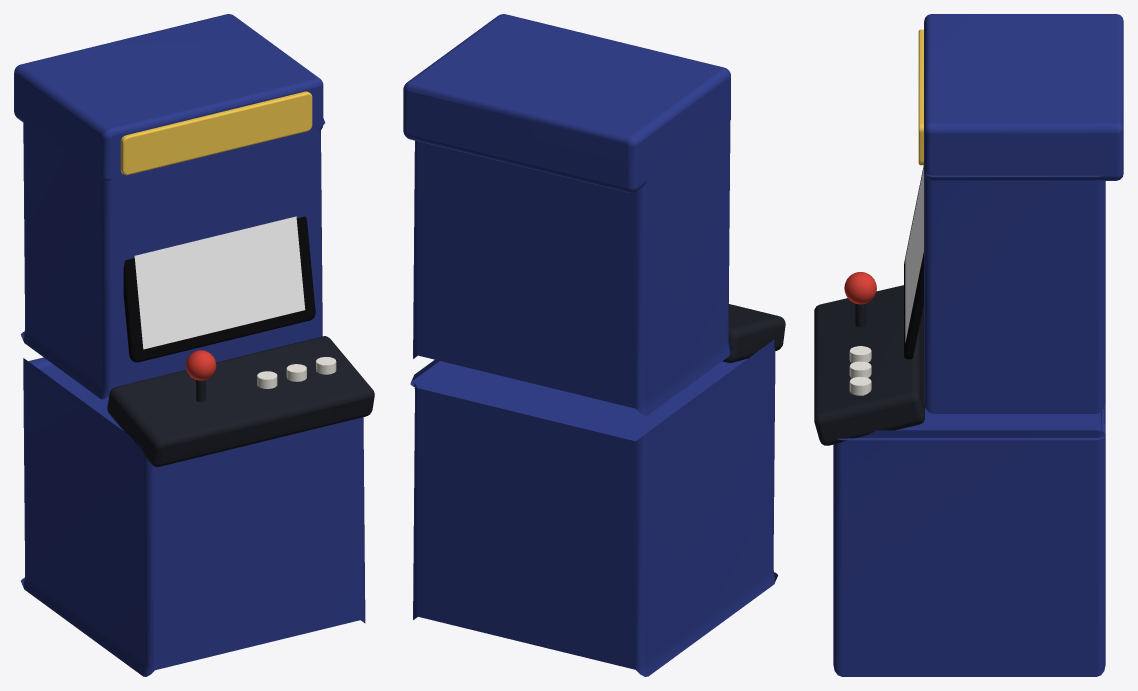
File: arcade.glb
3 renders of one model, left to right at view 1: azimuth 30°, elevation 25°; view 2: azimuth 150°, elevation 25°; view 3: azimuth 270°, elevation 25°, orthographic. The views are drawn at different scales.
Visible parts, largest first — view 1: Side, Front, Screen, Marquee, Bezel, Btn, Red; view 2: Side, Front; view 3: Side, Front, Screen, Bezel, Btn, Red, Marquee.
Part boxes in pixels (left/top/right/bottom): Side: left=14, top=14, right=365, bottom=676; Front: left=107, top=336, right=374, bottom=467; Screen: left=134, top=216, right=305, bottom=349; Marquee: left=120, top=91, right=312, bottom=175; Bezel: left=123, top=216, right=315, bottom=362; Btn: left=257, top=357, right=336, bottom=388; Red: left=186, top=350, right=216, bottom=380; Side: left=403, top=14, right=777, bottom=676; Front: left=722, top=304, right=785, bottom=363; Side: left=833, top=14, right=1123, bottom=676; Front: left=814, top=285, right=924, bottom=445; Screen: left=905, top=167, right=923, bottom=342; Bezel: left=904, top=165, right=923, bottom=359; Btn: left=849, top=346, right=871, bottom=395; Red: left=844, top=272, right=876, bottom=304; Marquee: left=918, top=29, right=923, bottom=165.
Bounding box in the file's own units: 0.3083 × 0.67 × 0.3411.
